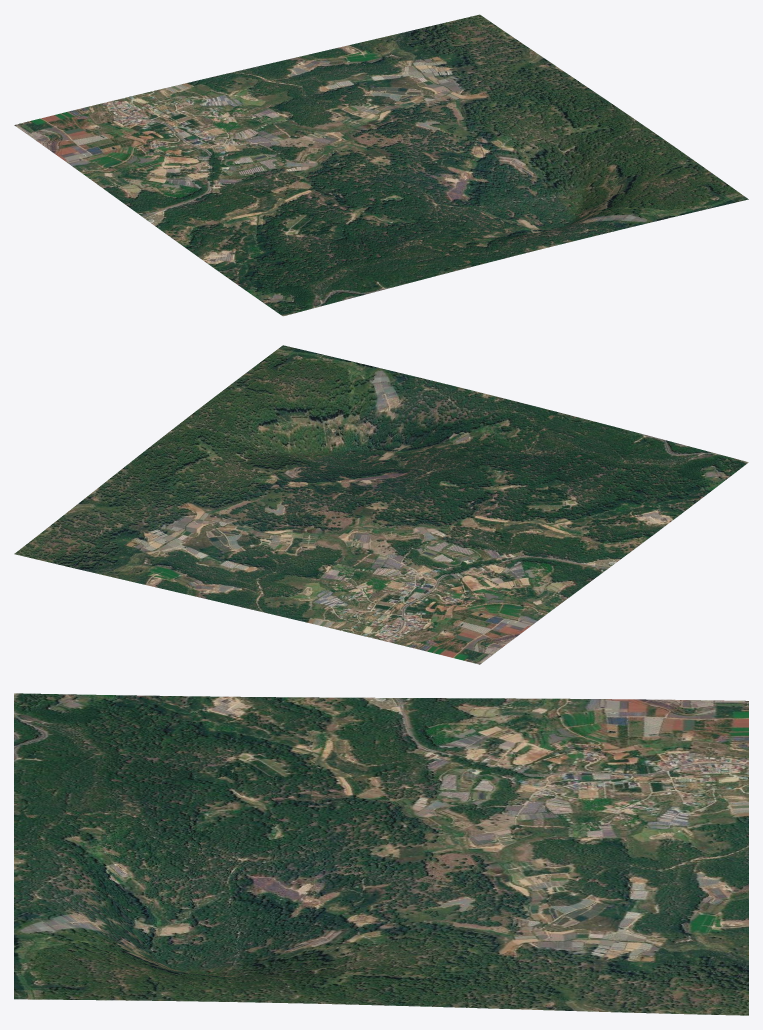
Rendered from terrain_real_T_E05_S01.glb.
The picture shows the model from 3 angles, top to bottom: view 1: azimuth 30°, elevation 25°; view 2: azimuth 150°, elevation 25°; view 3: azimuth 270°, elevation 25°; orthographic projection. The views are drawn at different scales.
Visible parts, largest first — view 1: Terrain_Real_DEM_T_E05_S01; view 2: Terrain_Real_DEM_T_E05_S01; view 3: Terrain_Real_DEM_T_E05_S01.
Part boxes in pixels (left/top/right/bottom): Terrain_Real_DEM_T_E05_S01: left=14, top=14, right=748, bottom=316; Terrain_Real_DEM_T_E05_S01: left=14, top=345, right=748, bottom=664; Terrain_Real_DEM_T_E05_S01: left=14, top=693, right=748, bottom=1015.
Bounding box in the file's own units: 2000 × 146 × 2000.
1 material, 1 textured.
